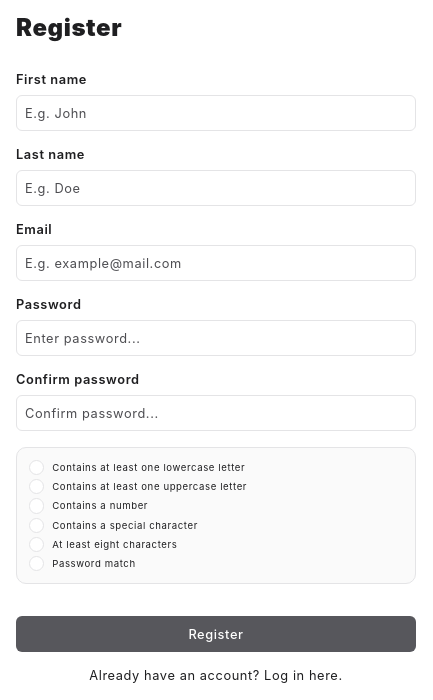
it: Authentication component: UI & navigation › navigates to the "/login" route when the login link is clicked
Click the link "Already have an account? Log in here.": (216, 676) x1=89 y1=668 x2=343 y2=683
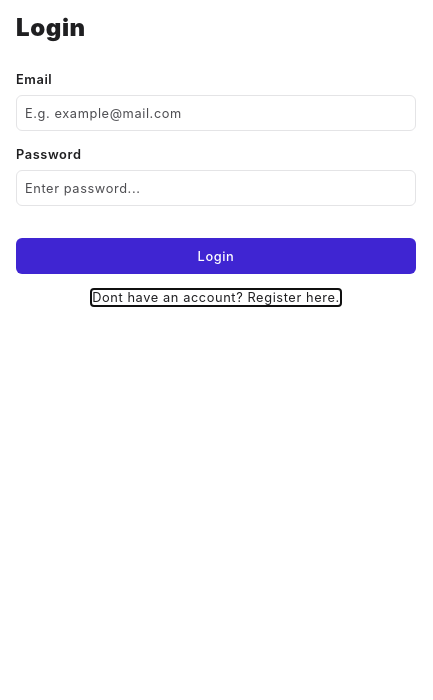
Result: the heading reads "Login" at x1=16 y1=13 x2=86 y2=42
